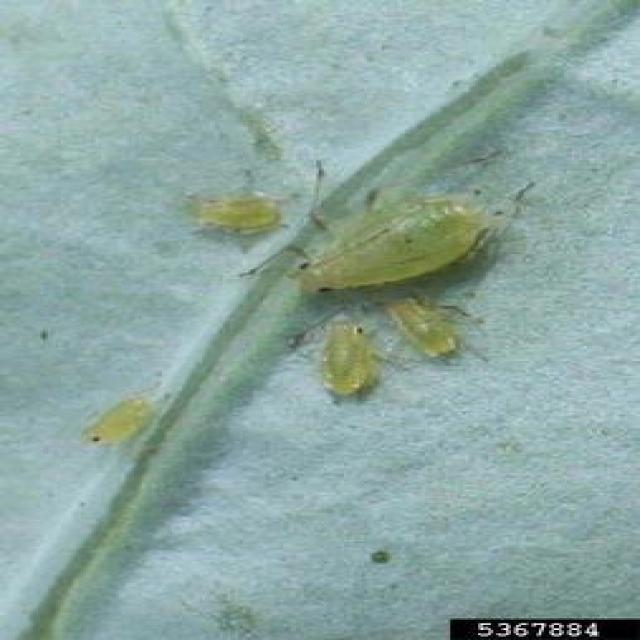Aphids: (174, 158, 565, 425), (51, 383, 202, 466)
